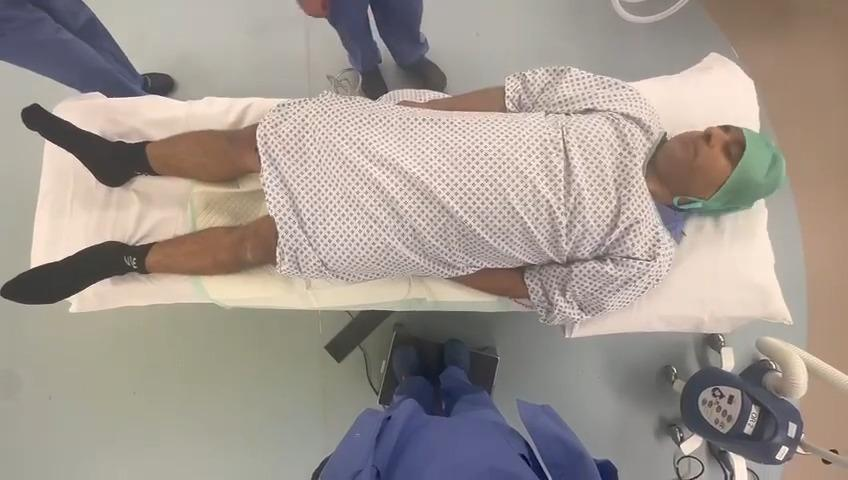patient: (0, 68, 783, 323)
